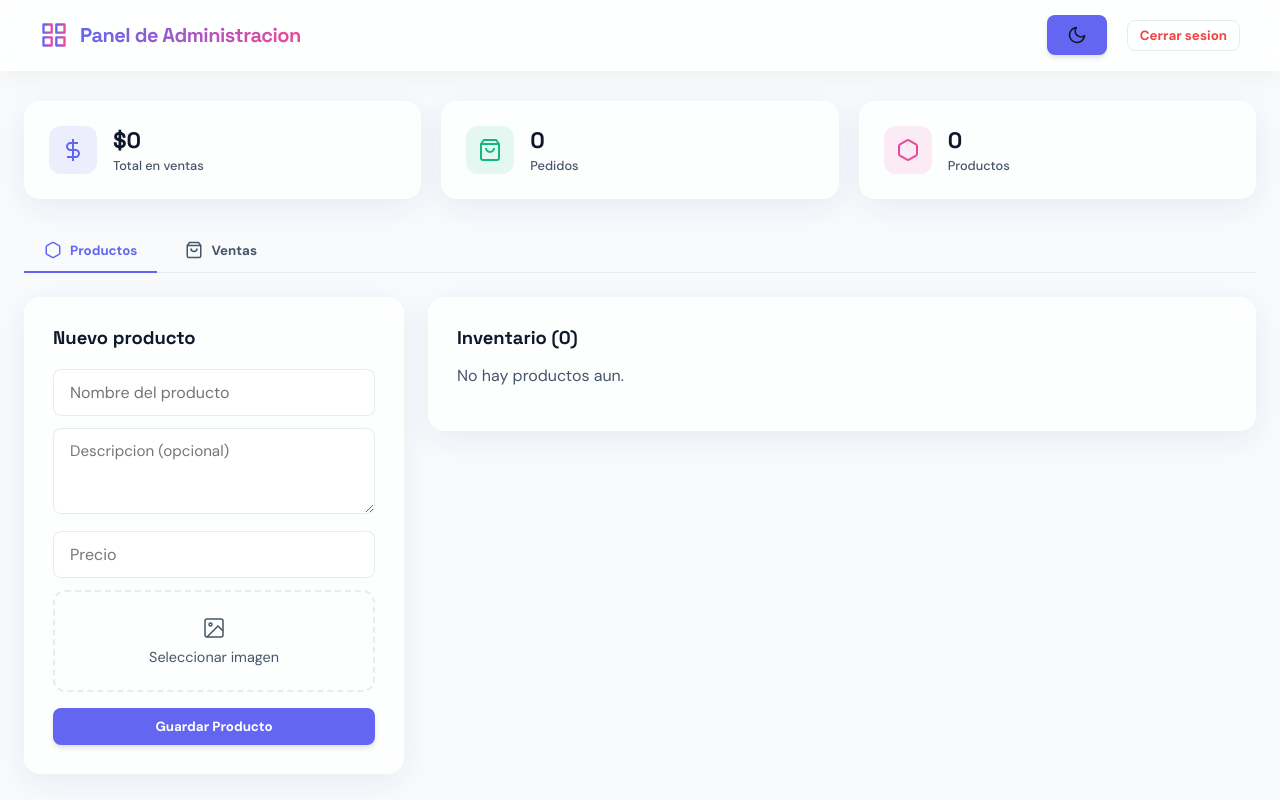
Scenario: Admin Component › Estadísticas y Ventas › ✗ EDGE CASE: sin ventas registradas
Click the button "Ventas" at (221, 251), box [165,229,277,273]
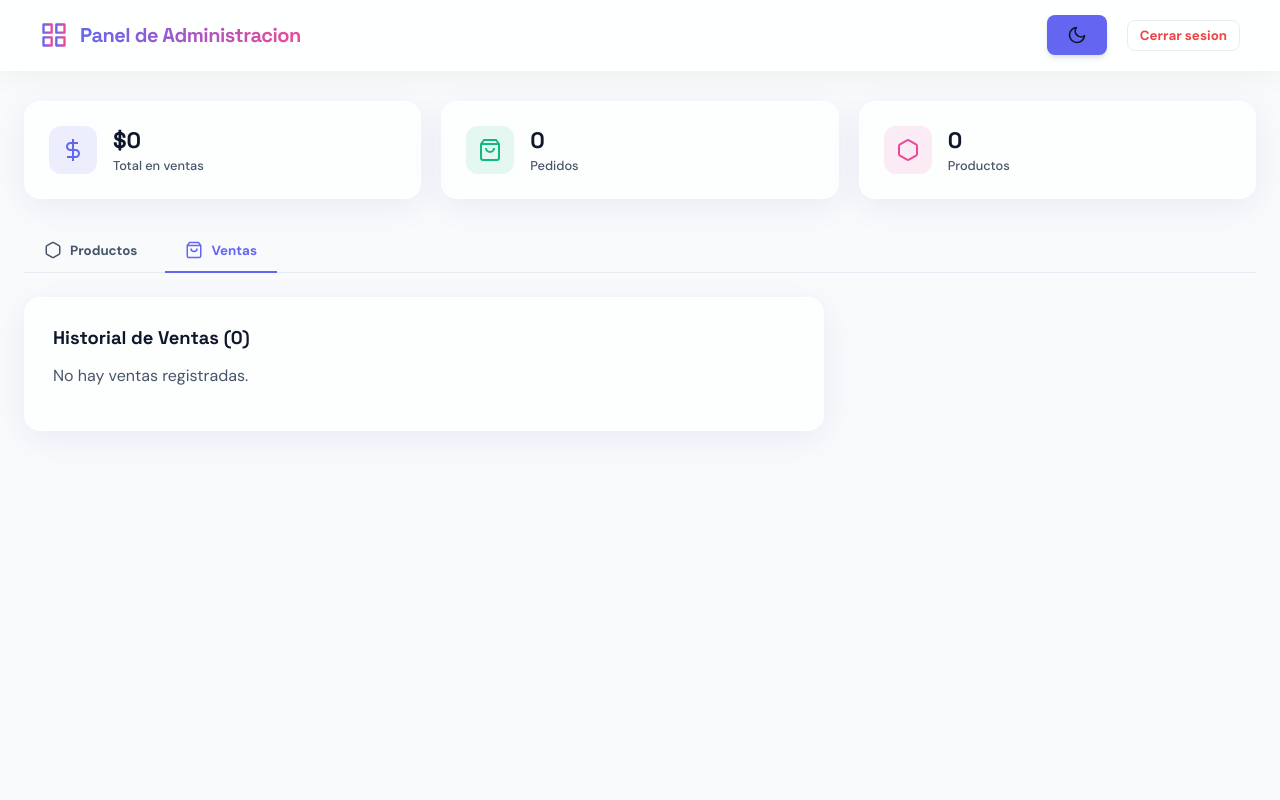
Check: the text "No hay ventas registradas." is shown, box [53,365,248,386]
